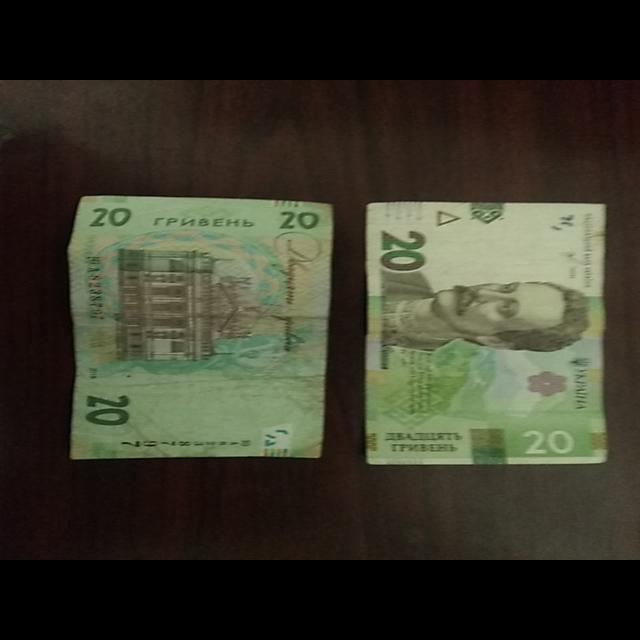20uah: (67, 195, 333, 461), (369, 202, 609, 463)
